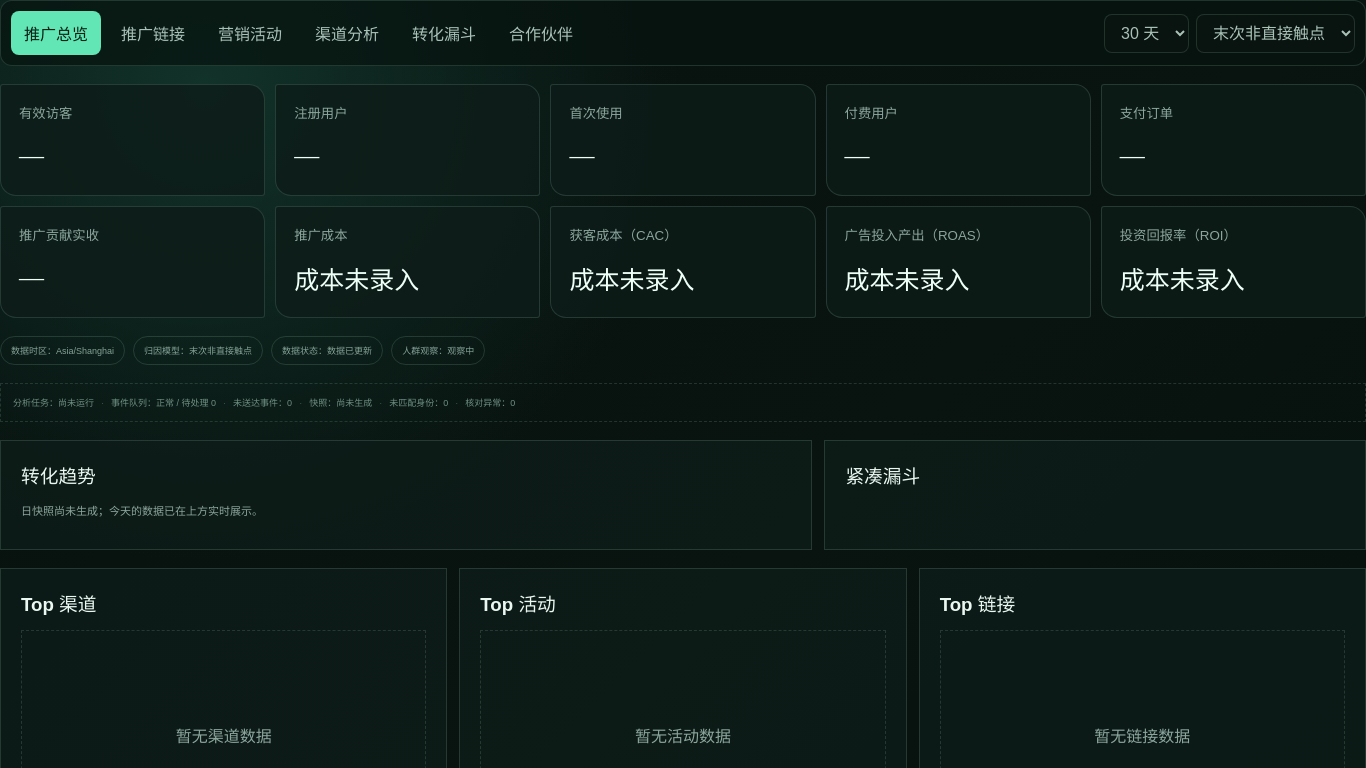
Test: promotion center shell › renders promotion indicators and states in Chinese instead of raw API keys
Check: the text "日快照尚未生成；今天的数据已在上方实时展示。" is shown, box [21, 505, 263, 517]
What coordinates should you click on to do the following:
click the tab "渠道分析"
I would click on:
 (347, 33)
Its box is [302, 11, 392, 55].
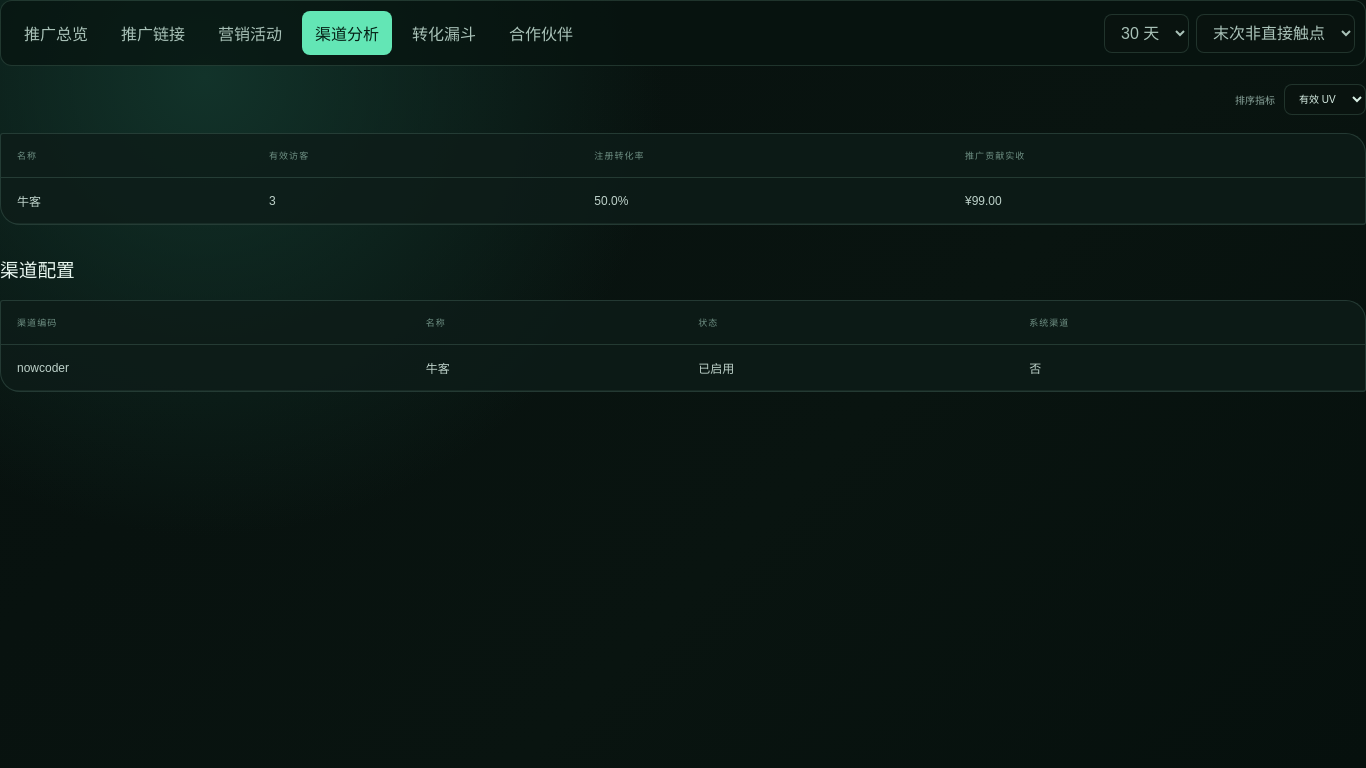
Check: the column heading "有效访客" is shown, box [253, 134, 578, 178]
Check: the column heading "系统渠道" is shown, box [1013, 301, 1365, 344]
Check: the text "已启用" is shown, box [682, 344, 1013, 390]
